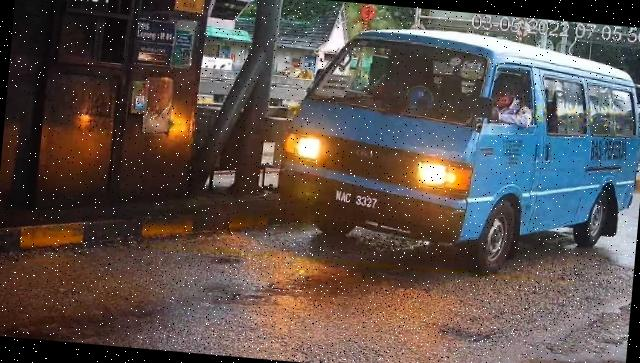License_Plate: (330, 187, 379, 216)
van: (273, 19, 640, 285)
